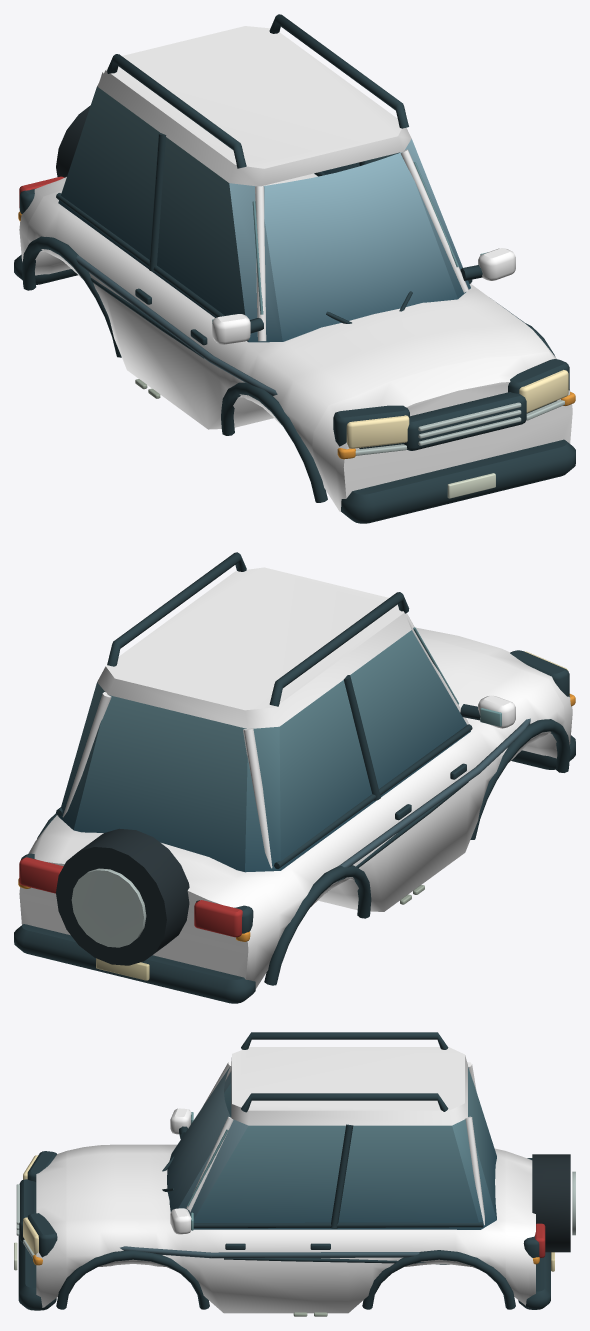
File: summit.glb
3 renders of one model, top to bottom at view 1: azimuth 30°, elevation 25°; view 2: azimuth 150°, elevation 25°; view 3: azimuth 270°, elevation 25°, orthographic. The views are drawn at different scales.
Visible parts, largest first — view 1: Chassis, Headlamps; view 2: Chassis, BrakeLamps; view 3: Chassis, Headlamps.
Part boxes in pixels (x1,y1,x2,y2): Chassis: (14, 14, 575, 523); Headlamps: (346, 370, 568, 448); Chassis: (14, 552, 575, 1003); BrakeLamps: (19, 857, 242, 937); Chassis: (14, 1032, 575, 1316); Headlamps: (23, 1155, 38, 1255).
Size of the model in its own units: 1.84 by 1.59 by 3.89.
